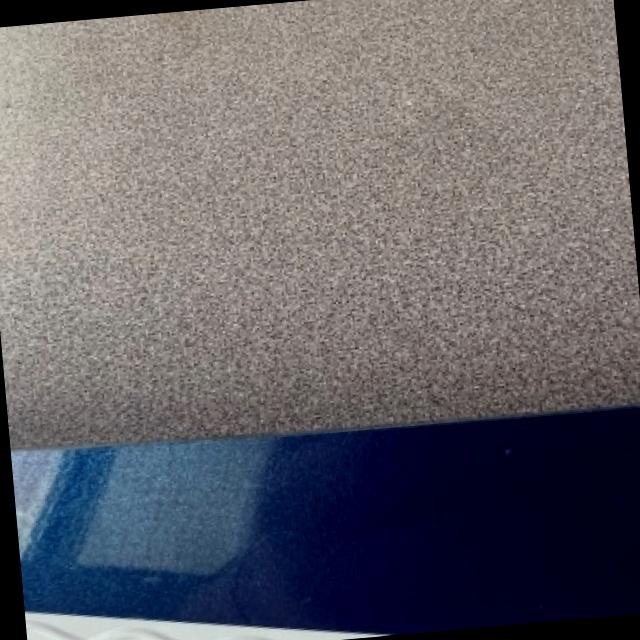healthy: (22, 407, 640, 632)
